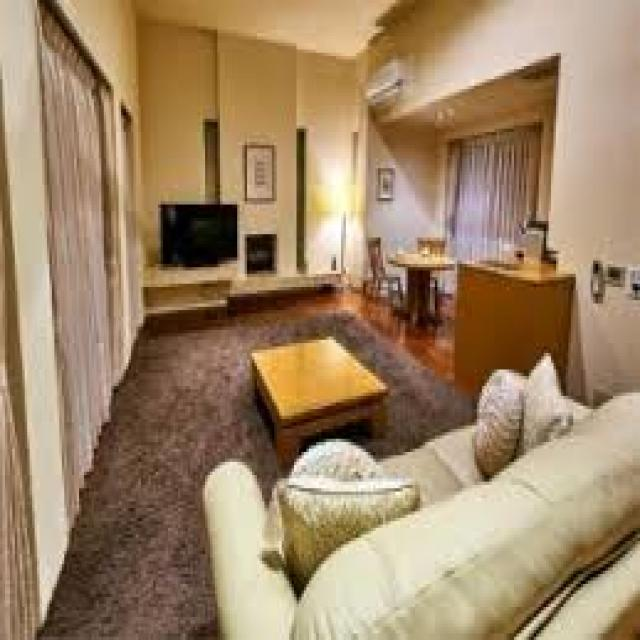Chair: (363, 234, 405, 309)
Sofa: (197, 369, 638, 638)
Table: (251, 336, 389, 446), (388, 250, 454, 326)
tv: (158, 201, 241, 267)
window: (4, 3, 112, 595)
